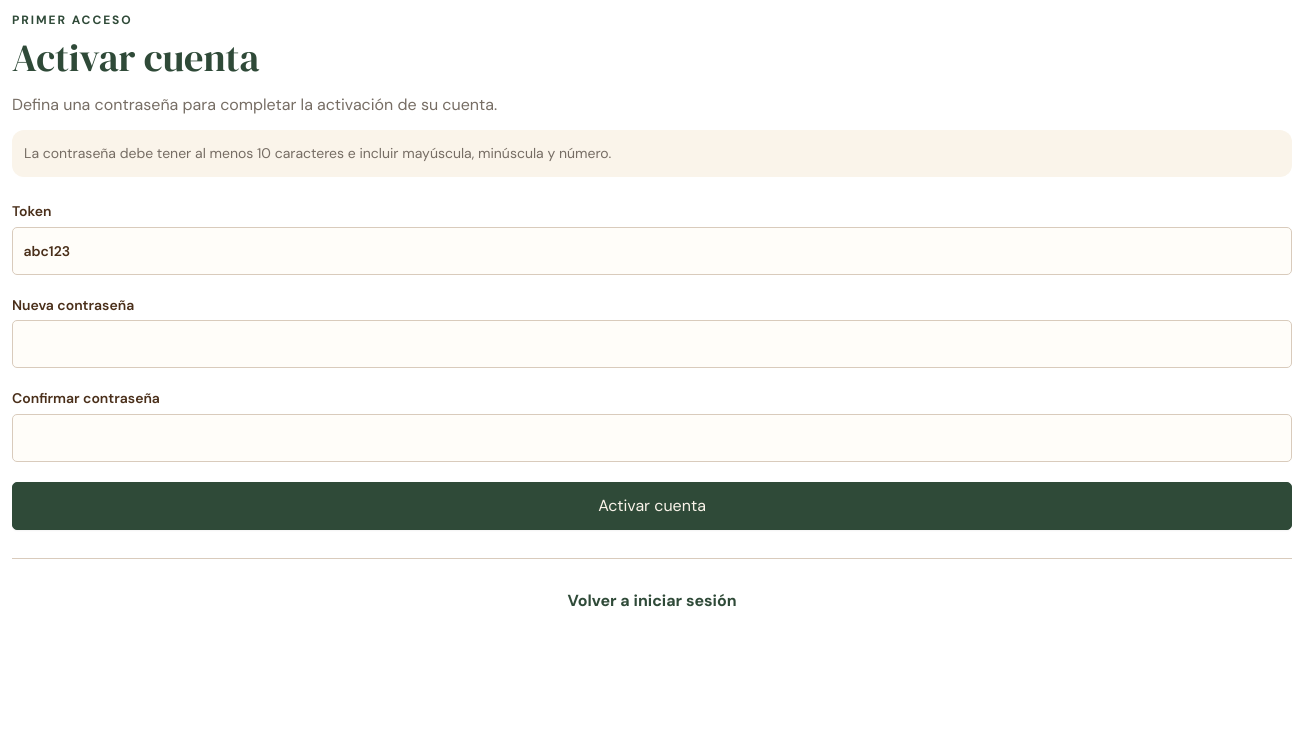
Test case: TokenPasswordPage activation › maps authoritative backend outcome: Account cannot be activated
This screenshot has width=1304, height=732.
Type "Secure12345" into the password field labelled "Nueva contraseña".
click(652, 344); type("Secure12345")  # box [12,320,1292,368]
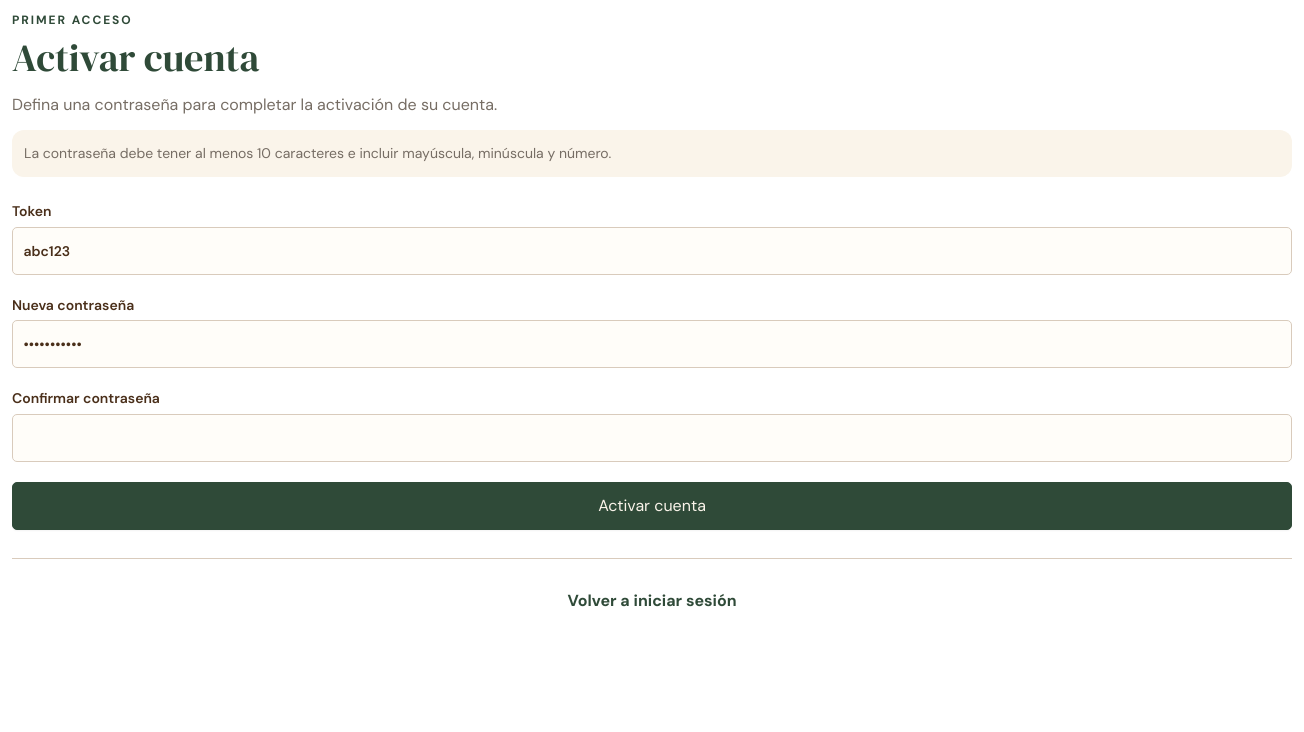
Type "Secure12345" into the password field labelled "Confirmar contraseña".
click(652, 438); type("Secure12345")  # box [12,414,1292,462]
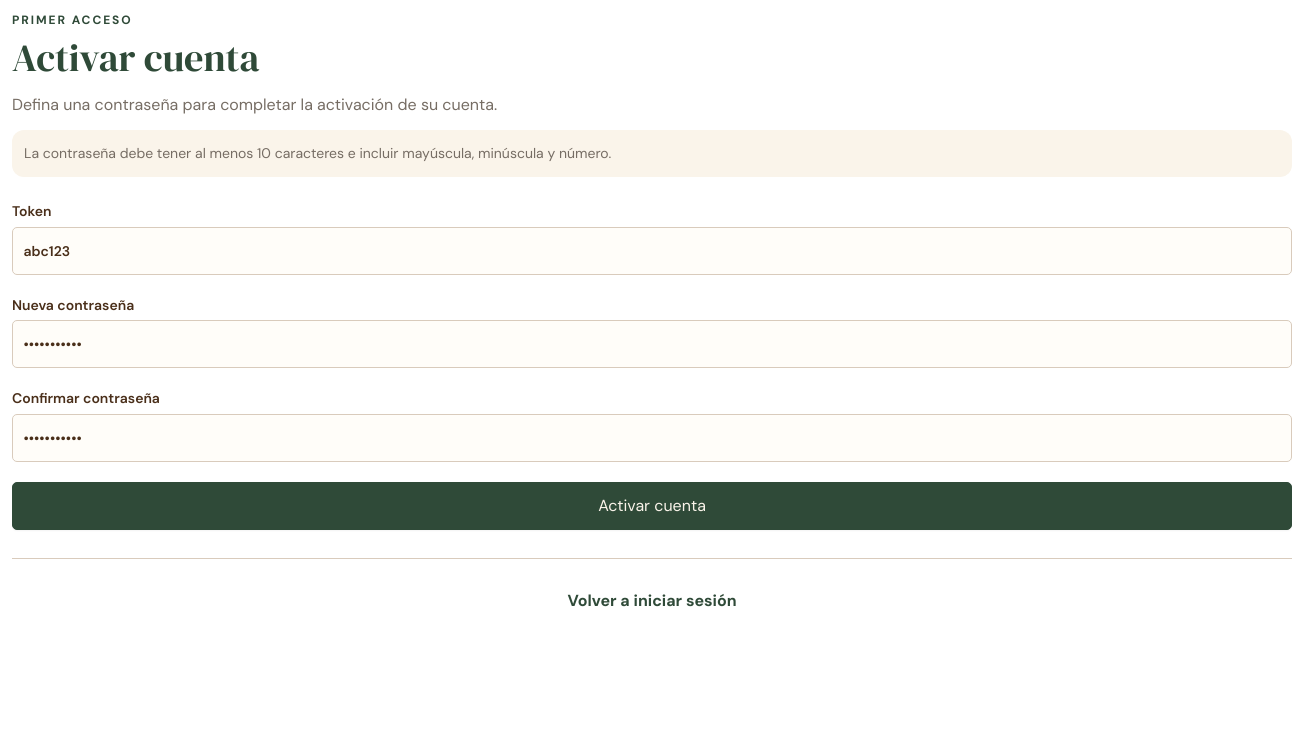
Click the button "Activar cuenta".
click(652, 506)  # box [12,482,1292,530]
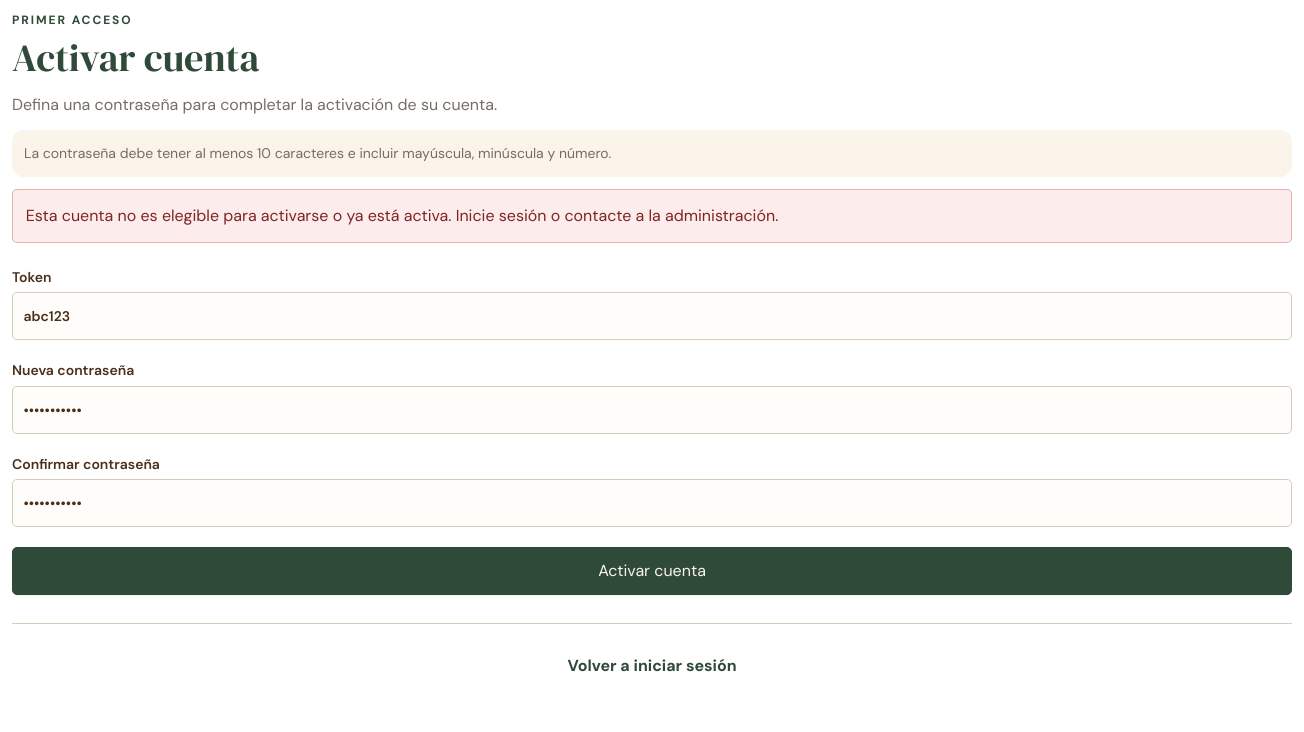
Expected: the message shows "no es elegible para activarse o ya está activa", [26,205,778,226]
